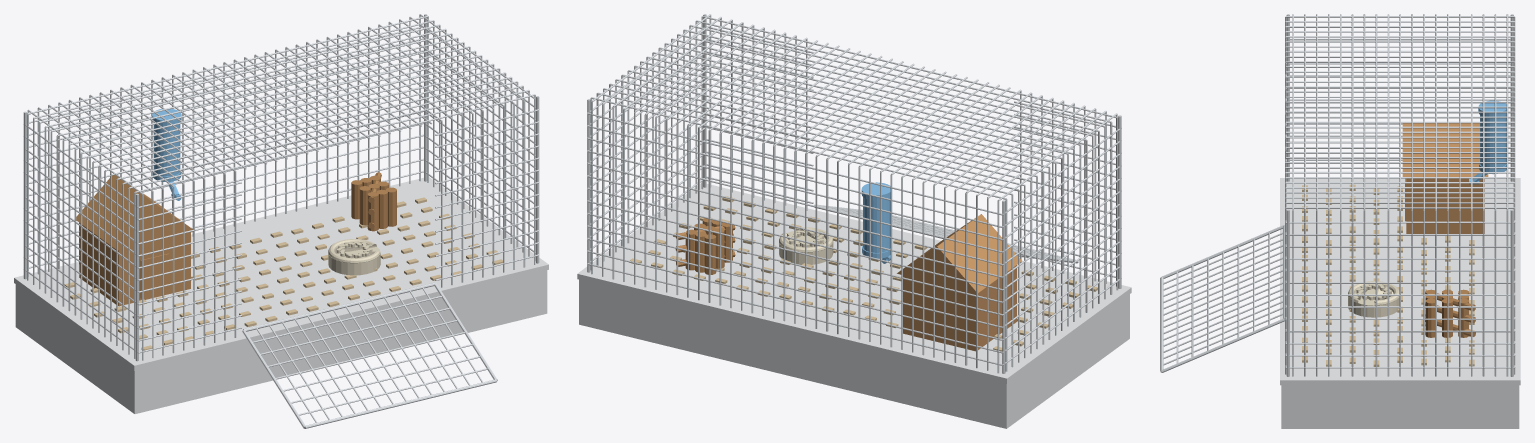
The model's file is rat jail.fbx.
3 renders of one model, left to right at view 1: azimuth 30°, elevation 25°; view 2: azimuth 150°, elevation 25°; view 3: azimuth 270°, elevation 25°, orthographic. The views are drawn at different scales.
Visible parts, largest first — view 1: 02_Estructura_alambre, 01_Base_bandeja, 03_Puerta_frontal_abierta, 06_Casita_madera, 10_Cama_sustrato, 08_Tunel_tronquitos, 07_Comedero, 05_Bebedero; view 2: 02_Estructura_alambre, 01_Base_bandeja, 06_Casita_madera, 10_Cama_sustrato, 08_Tunel_tronquitos, 05_Bebedero, 07_Comedero, 03_Puerta_frontal_abierta; view 3: 02_Estructura_alambre, 01_Base_bandeja, 06_Casita_madera, 03_Puerta_frontal_abierta, 10_Cama_sustrato, 08_Tunel_tronquitos, 05_Bebedero, 07_Comedero.
Boxes of the visible parts, bbox=[...] form: 02_Estructura_alambre: bbox=[23, 14, 539, 361]; 01_Base_bandeja: bbox=[14, 177, 548, 413]; 03_Puerta_frontal_abierta: bbox=[242, 282, 497, 428]; 06_Casita_madera: bbox=[76, 175, 193, 306]; 10_Cama_sustrato: bbox=[64, 197, 502, 350]; 08_Tunel_tronquitos: bbox=[351, 172, 396, 231]; 07_Comedero: bbox=[328, 239, 380, 275]; 05_Bebedero: bbox=[152, 109, 181, 200]; 02_Estructura_alambre: bbox=[587, 14, 1121, 373]; 01_Base_bandeja: bbox=[577, 183, 1131, 428]; 06_Casita_madera: bbox=[897, 214, 1021, 351]; 10_Cama_sustrato: bbox=[629, 196, 1097, 351]; 08_Tunel_tronquitos: bbox=[676, 218, 735, 274]; 05_Bebedero: bbox=[861, 182, 890, 263]; 07_Comedero: bbox=[779, 227, 833, 264]; 03_Puerta_frontal_abierta: bbox=[814, 204, 1078, 263]; 02_Estructura_alambre: bbox=[1285, 14, 1515, 376]; 01_Base_bandeja: bbox=[1280, 178, 1520, 428]; 06_Casita_madera: bbox=[1402, 123, 1488, 233]; 03_Puerta_frontal_abierta: bbox=[1160, 225, 1284, 372]; 10_Cama_sustrato: bbox=[1302, 184, 1474, 366]; 08_Tunel_tronquitos: bbox=[1425, 289, 1475, 337]; 05_Bebedero: bbox=[1469, 100, 1506, 184]; 07_Comedero: bbox=[1348, 281, 1399, 317].
Bounding box in the file's own units: 1005 × 502 × 756.
